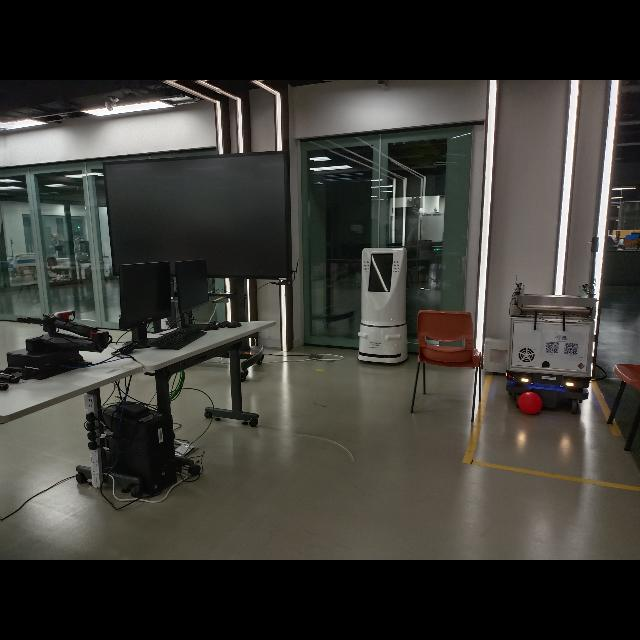R: (519, 389, 543, 417)
